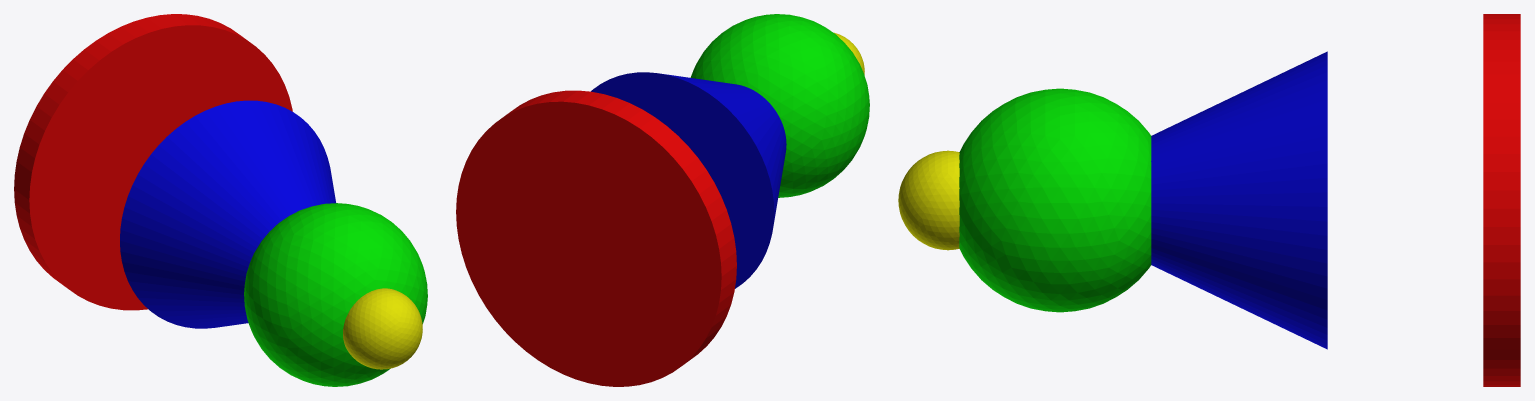
Rendered from alfil_colores_matlab.glb.
3 views of the same model, side by side, from view 1: azimuth 30°, elevation 25°; view 2: azimuth 150°, elevation 25°; view 3: azimuth 270°, elevation 25° (orthographic). The views are drawn at different scales.
Parts seen in each view (by area): view 1: world; view 2: world; view 3: world.
Boxes of the visible parts, box(x1,y1,x2,y2) form: world: box(14, 14, 427, 386); world: box(456, 14, 869, 386); world: box(898, 14, 1520, 386).
Size of the model in its own units: 3 by 3 by 5.
